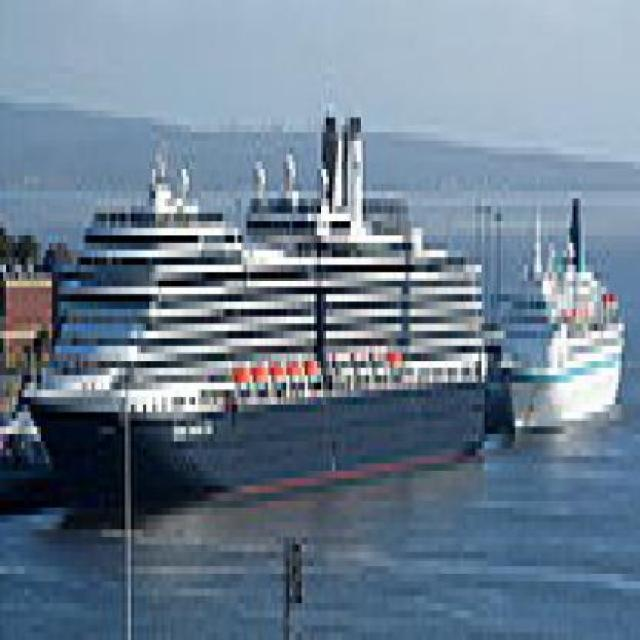cruise: (19, 97, 501, 517), (495, 185, 638, 472)
